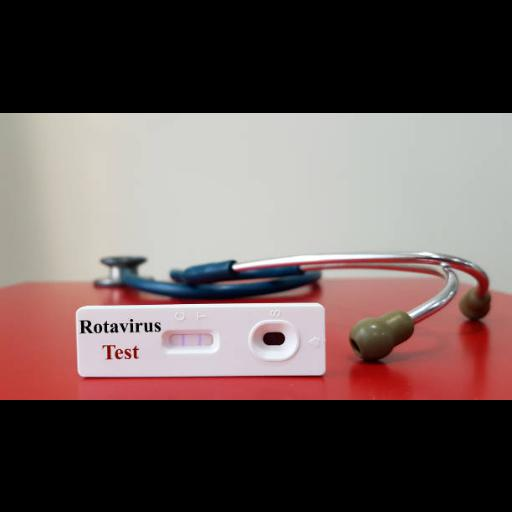Pos: (76, 306, 324, 374)
